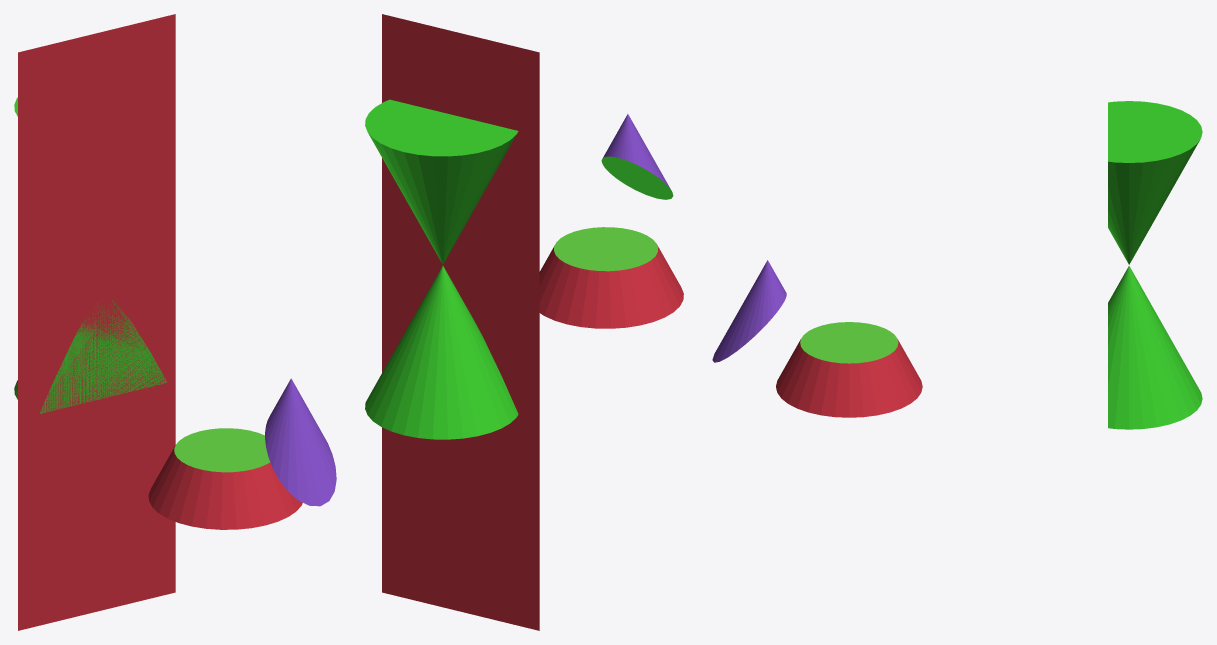
Rendered from conicas.fbx.
The picture shows the model from 3 angles, left to right: view 1: azimuth 30°, elevation 25°; view 2: azimuth 150°, elevation 25°; view 3: azimuth 270°, elevation 25°; orthographic projection. The views are drawn at different scales.
Visible parts, largest first — view 1: Plano de Corte, Cono, Cono.002, Cono.001; view 2: Plano de Corte, Cono.002, Cono, Cono.001; view 3: Cono.002, Cono, Cono.001.
Part boxes in pixels (box(x1,y1,x2,y2)): Plano de Corte: box(18, 14, 175, 630); Cono: box(148, 428, 302, 529); Cono.002: box(14, 97, 167, 413); Cono.001: box(265, 378, 336, 506); Plano de Corte: box(382, 14, 539, 630); Cono.002: box(365, 99, 518, 439); Cono: box(539, 227, 683, 328); Cono.001: box(601, 114, 673, 199); Cono.002: box(1108, 101, 1202, 429); Cono: box(776, 322, 922, 417); Cono.001: box(712, 260, 786, 362).
Size of the model in its own units: 233 by 818 by 667.
